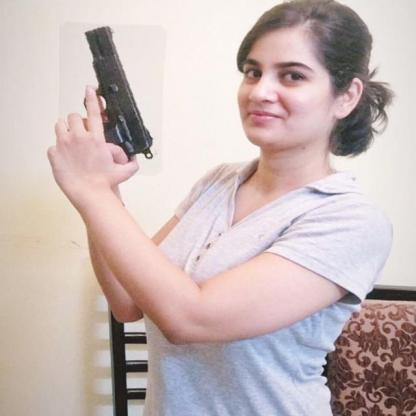handgun: (57, 23, 165, 175)
